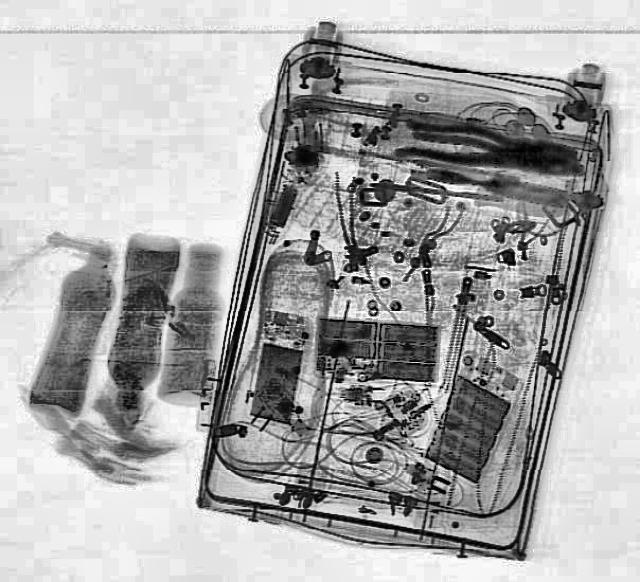Pliers: (392, 113, 580, 185)
